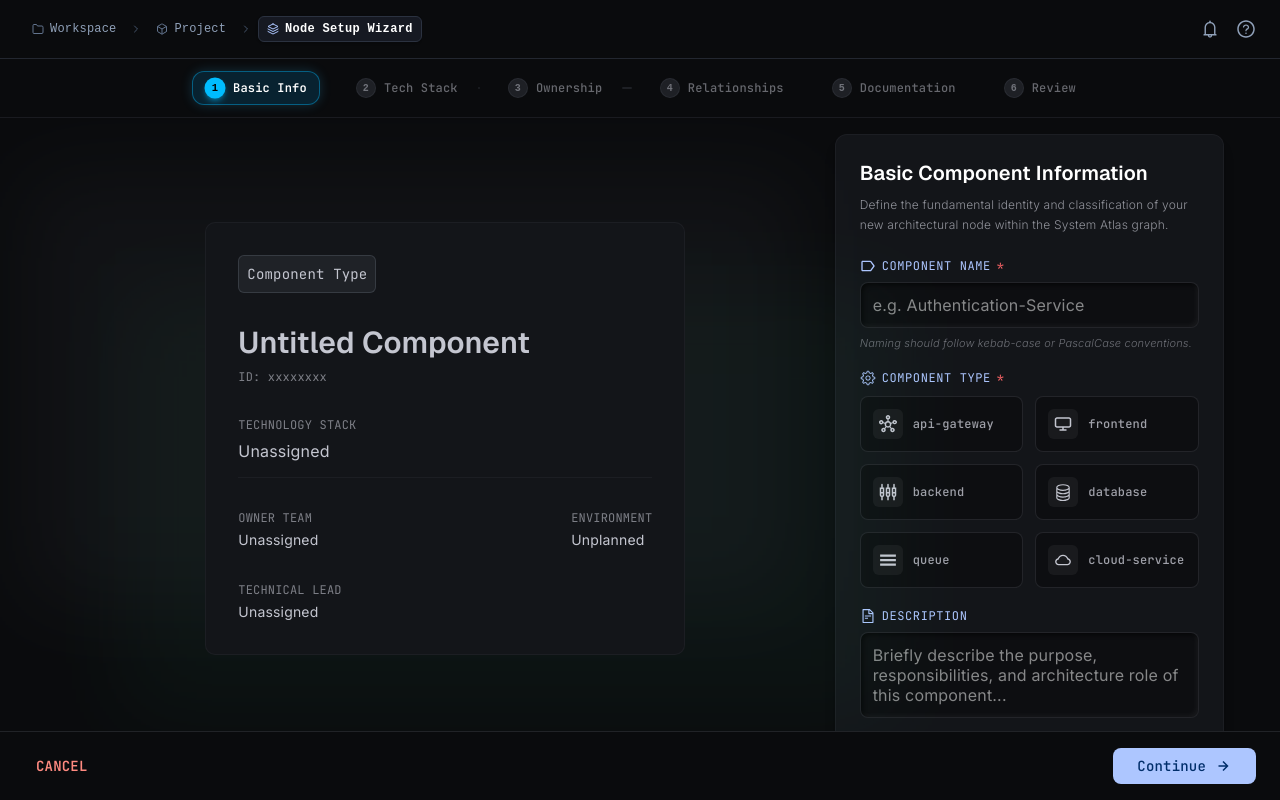
Test: Setup Wizard - Step 1 Basic Info & Session Initialization › shows validation error when component name is empty
Click the button "Continue" at {"x": 1185, "y": 766}, box [1113,748,1256,784]
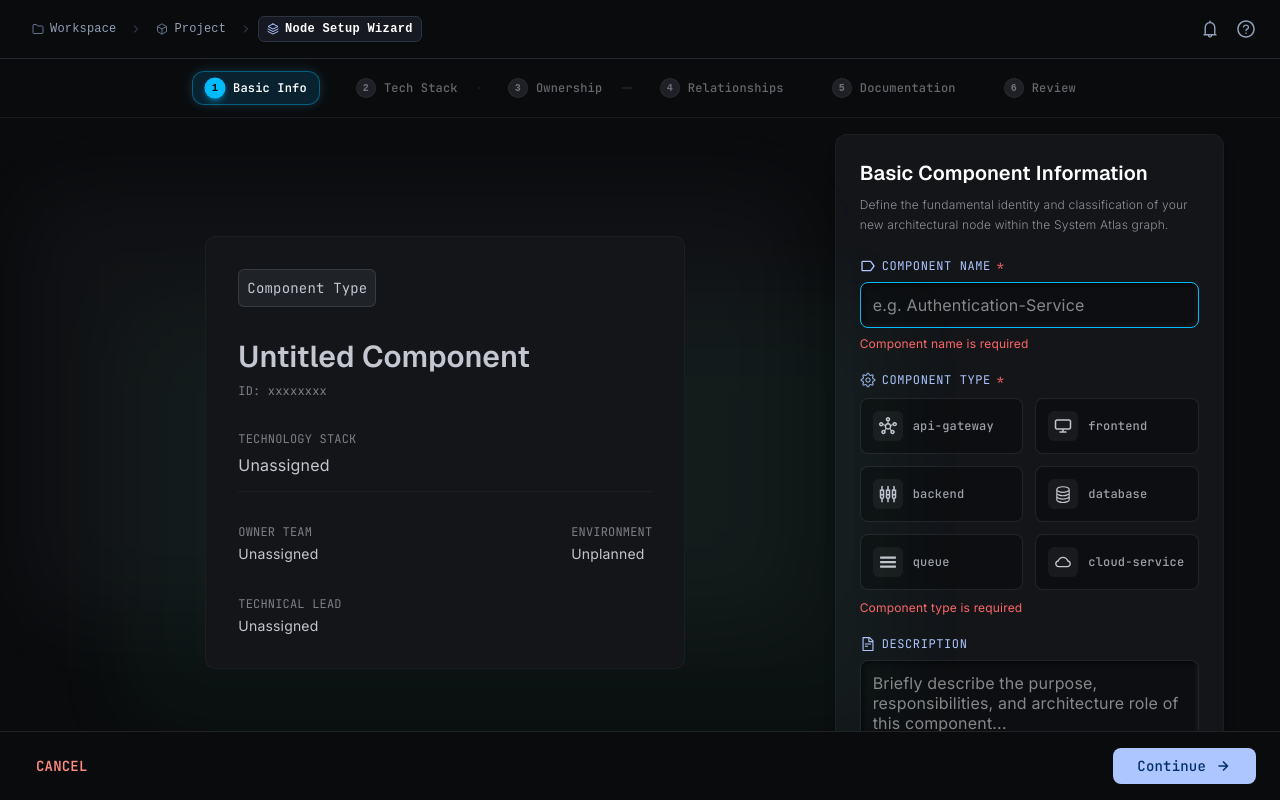
Check: the text "Component name is required" is shown, box [860,336,1028,351]
